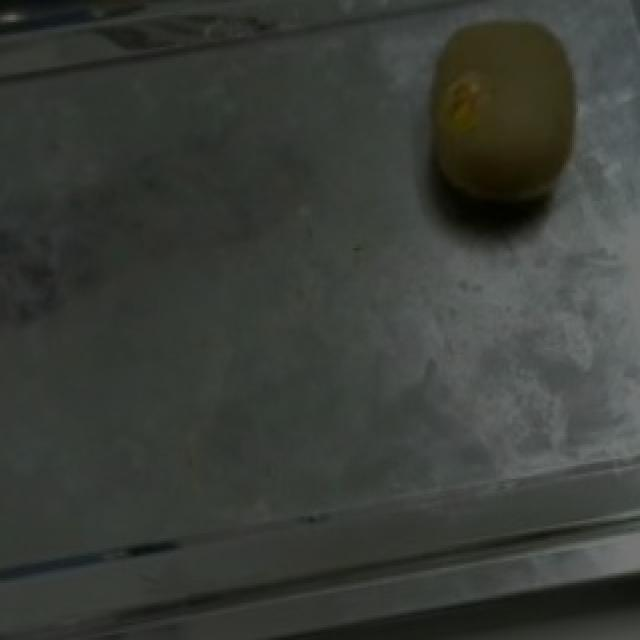Fruit: (390, 0, 610, 256)
